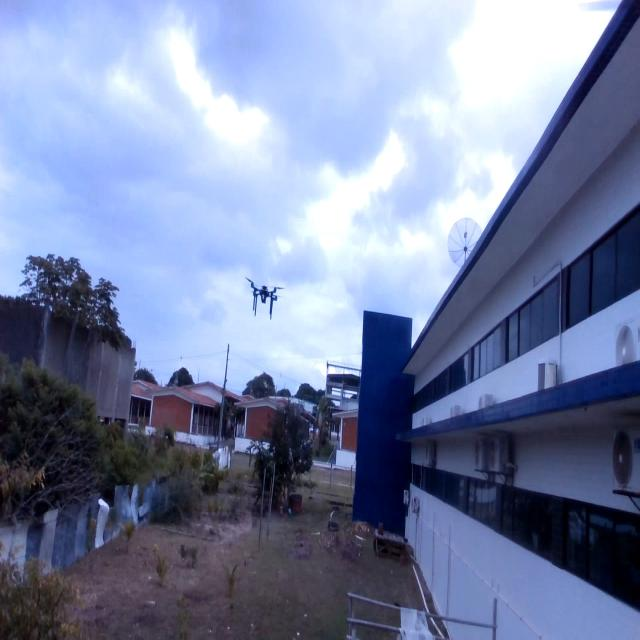-uav-: (241, 265, 287, 326)
